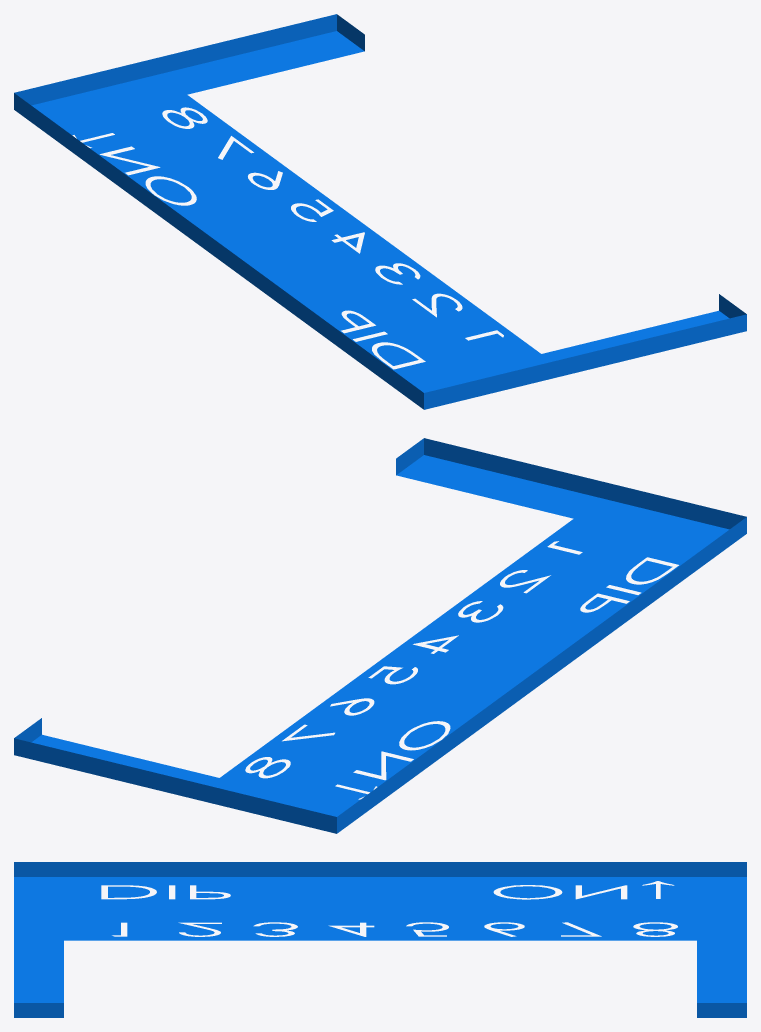
File: zatana_terra_base_vis_36.dae
The picture shows the model from 3 angles, top to bottom: view 1: azimuth 30°, elevation 25°; view 2: azimuth 150°, elevation 25°; view 3: azimuth 270°, elevation 25°; orthographic projection. The views are drawn at different scales.
Visible parts, largest first — view 1: Node_000002318374BEC0; view 2: Node_000002318374BEC0; view 3: Node_000002318374BEC0.
Boxes of the visible parts, x1=… form: Node_000002318374BEC0: x1=14, y1=14, x2=746, y2=409; Node_000002318374BEC0: x1=14, y1=438, x2=746, y2=833; Node_000002318374BEC0: x1=14, y1=862, x2=746, y2=1017.
Size of the model in its own units: 0.0128 by 0.000639 by 0.0281.
